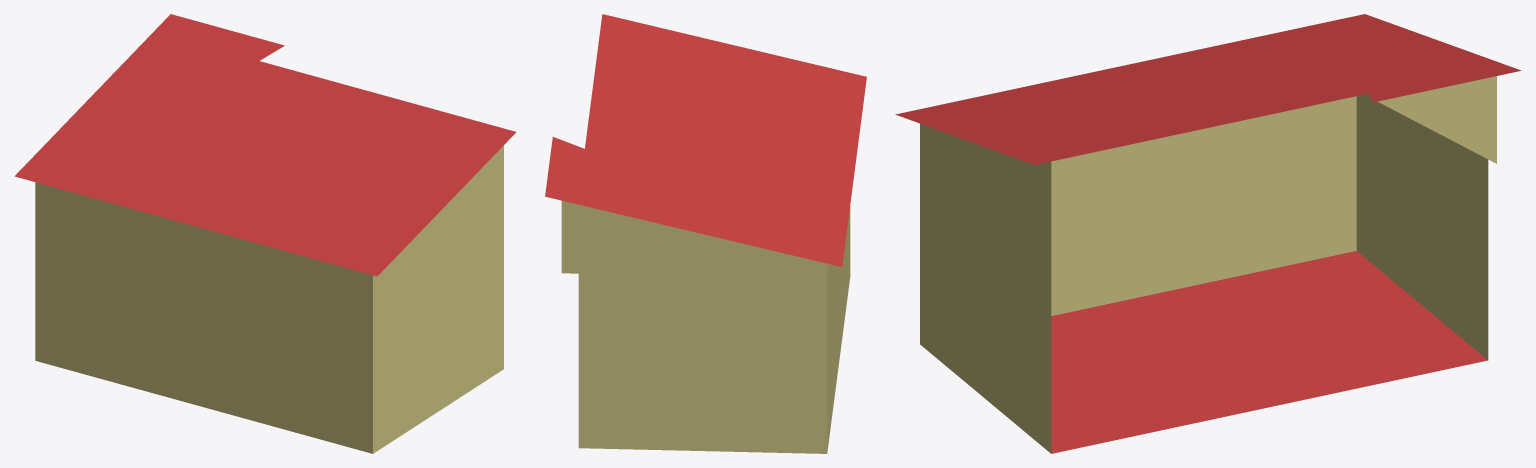
The picture shows the model from 3 angles, left to right: view 1: azimuth 30°, elevation 25°; view 2: azimuth 150°, elevation 25°; view 3: azimuth 270°, elevation 25°; orthographic projection. The views are drawn at different scales.
Bounding box in the file's own units: 13.87 × 16.92 × 8.95.
